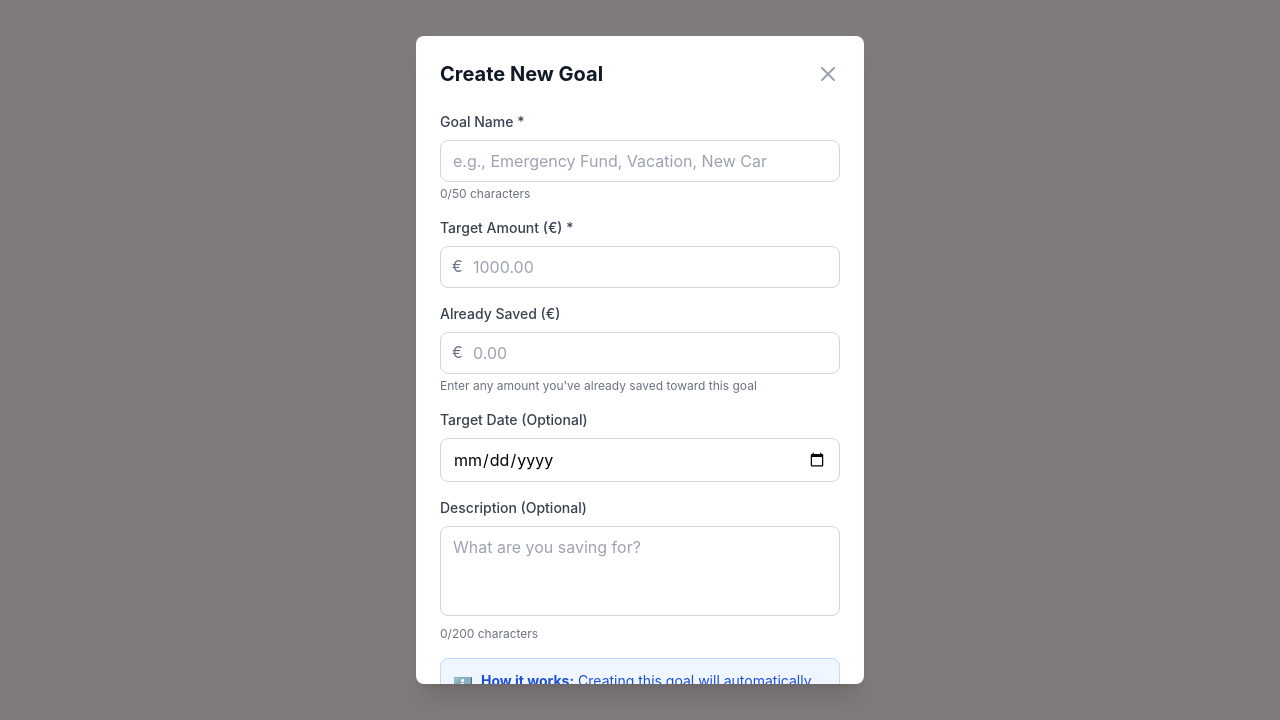
it: CreateGoalModal › Input Validation › shows error when target amount is empty
Type "My Goal" into the field with placeholder "e.g., Emergency Fund, Vacation, New Car". click: [640, 161]
box: [440,140,840,182]
(page scrolled)
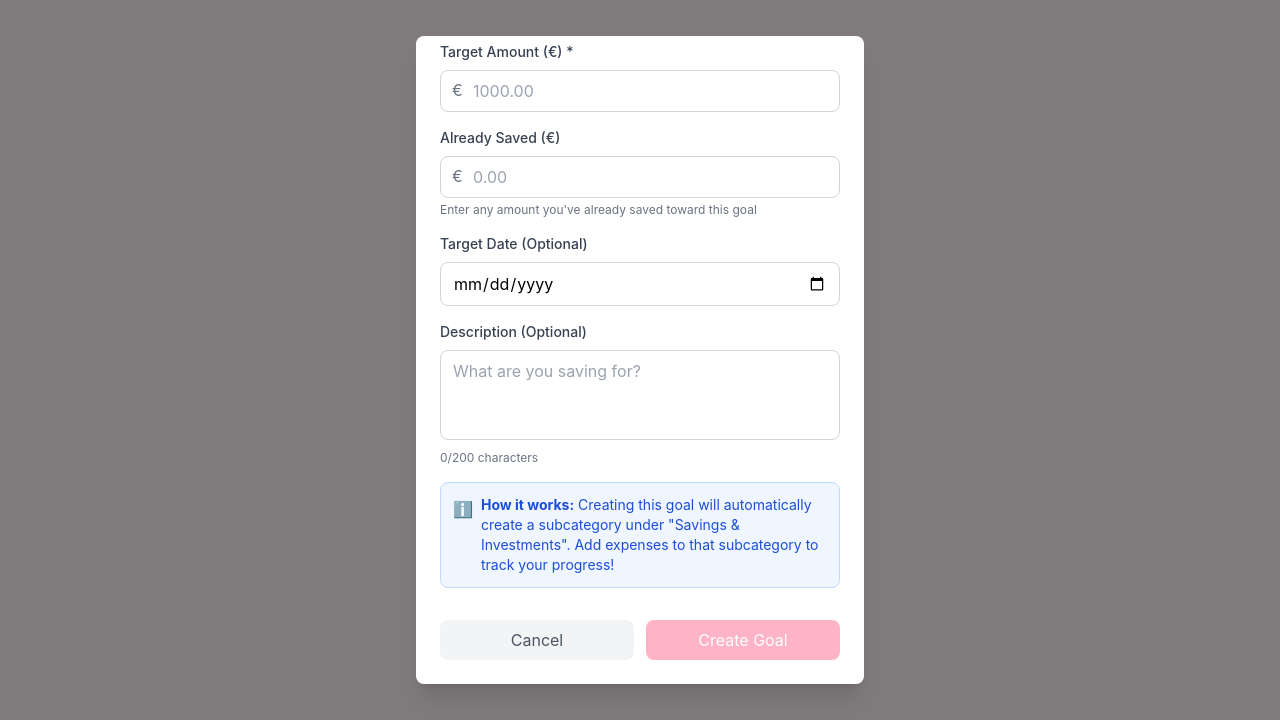
Click the button "Create Goal". click: [743, 640]
box: [646,620,840,660]
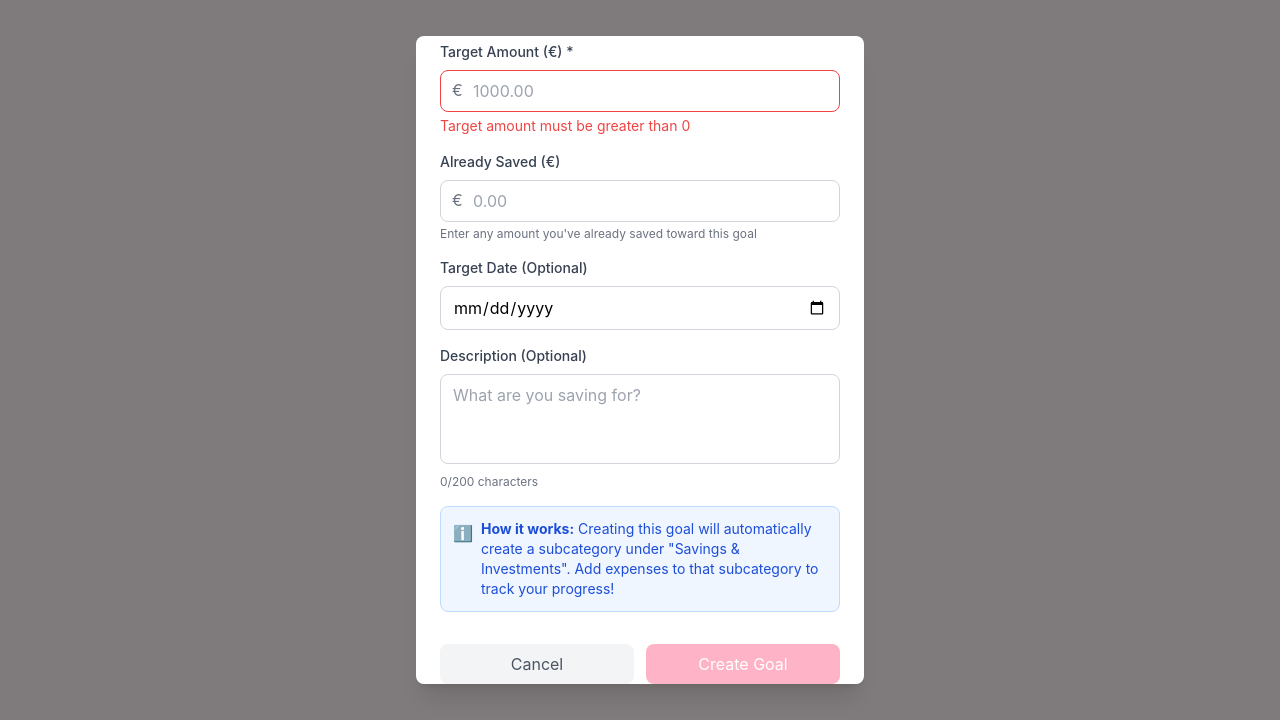
Check: the text "Target amount must be greater than 0" is shown, box [440,117,690,134]
